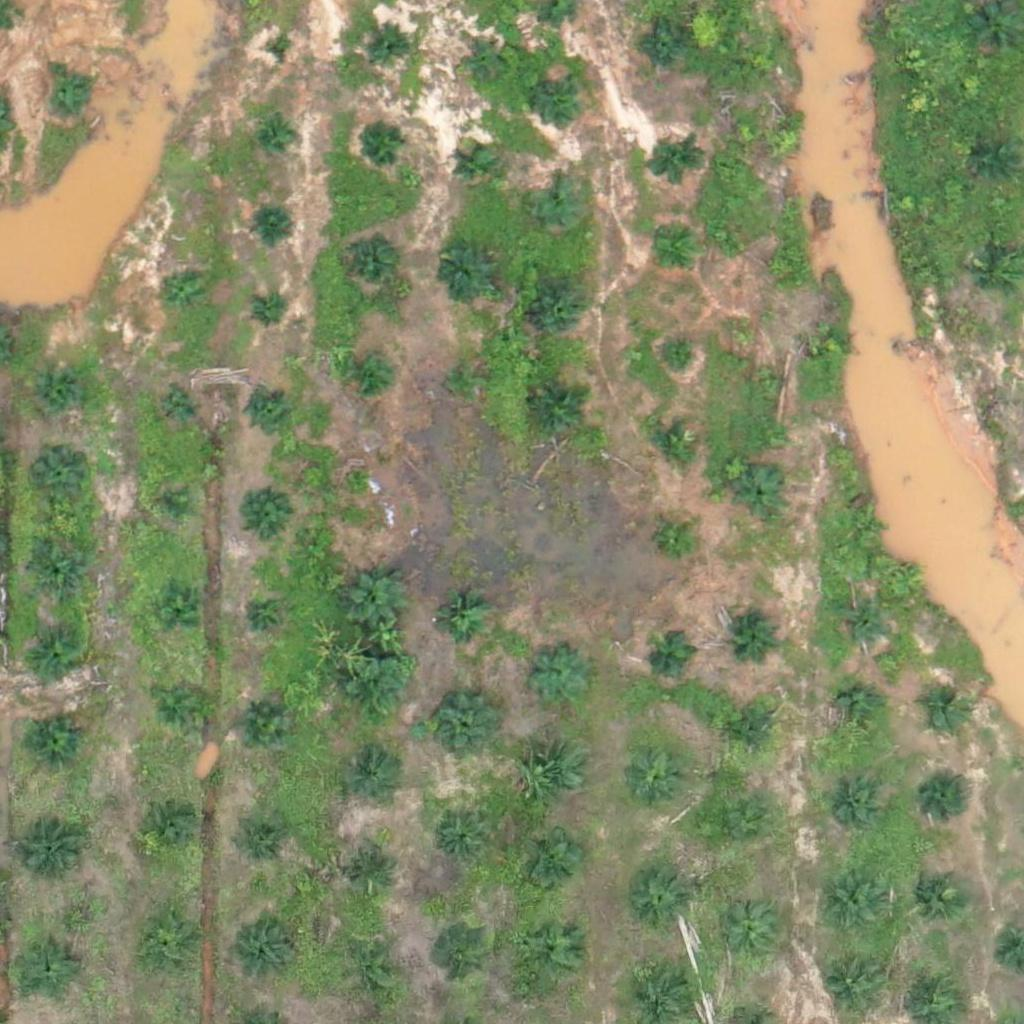Kelapa_Sawit: (20, 817, 83, 880), (707, 800, 770, 863), (822, 776, 885, 839), (432, 240, 495, 303), (430, 593, 493, 656), (434, 693, 497, 756), (529, 176, 592, 239), (820, 873, 883, 936), (141, 910, 204, 973), (517, 918, 580, 981), (431, 925, 494, 988), (821, 954, 884, 1017), (344, 569, 407, 632), (137, 800, 200, 862), (518, 832, 580, 895), (629, 747, 691, 810), (528, 645, 590, 708), (343, 938, 405, 1001), (628, 868, 690, 931), (717, 906, 779, 969), (907, 864, 969, 927), (346, 658, 408, 721), (524, 745, 586, 808), (234, 925, 296, 987), (536, 283, 586, 334), (535, 386, 585, 437), (241, 488, 291, 539), (646, 418, 696, 469), (348, 237, 398, 288), (360, 118, 410, 169), (29, 716, 79, 766), (33, 548, 83, 598), (35, 630, 85, 680), (32, 445, 82, 495), (22, 945, 72, 995), (537, 74, 587, 124), (241, 826, 291, 876), (343, 758, 393, 808), (351, 851, 401, 901), (434, 814, 484, 864), (237, 698, 287, 748), (923, 775, 973, 825), (730, 606, 780, 656), (648, 631, 698, 681), (155, 678, 205, 728), (837, 601, 887, 651), (736, 470, 786, 520), (833, 686, 883, 736), (919, 685, 969, 735), (727, 710, 777, 760), (241, 590, 291, 640), (154, 586, 204, 636), (650, 138, 700, 188), (648, 228, 698, 278), (972, 3, 1022, 53), (641, 23, 691, 73), (38, 73, 88, 123), (35, 368, 85, 418), (845, 508, 883, 546), (657, 519, 695, 557), (152, 485, 190, 523), (749, 360, 787, 398), (759, 247, 797, 285), (765, 122, 803, 160), (257, 212, 295, 250), (251, 292, 289, 330), (351, 356, 389, 394), (813, 322, 850, 360), (976, 142, 1013, 180), (262, 37, 300, 74), (259, 121, 297, 158), (371, 24, 409, 61), (466, 45, 503, 83), (164, 269, 201, 307), (447, 362, 484, 400), (248, 388, 285, 426), (156, 386, 193, 424), (659, 341, 696, 378), (457, 149, 494, 186)
